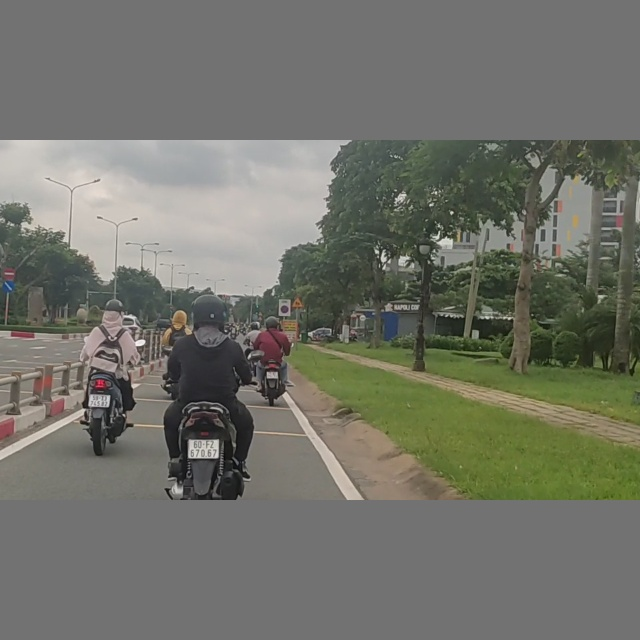P.102: (3, 267, 16, 279)
P.130: (281, 305, 289, 313)
R.302a: (3, 281, 15, 293)
W.225: (291, 295, 304, 308)
